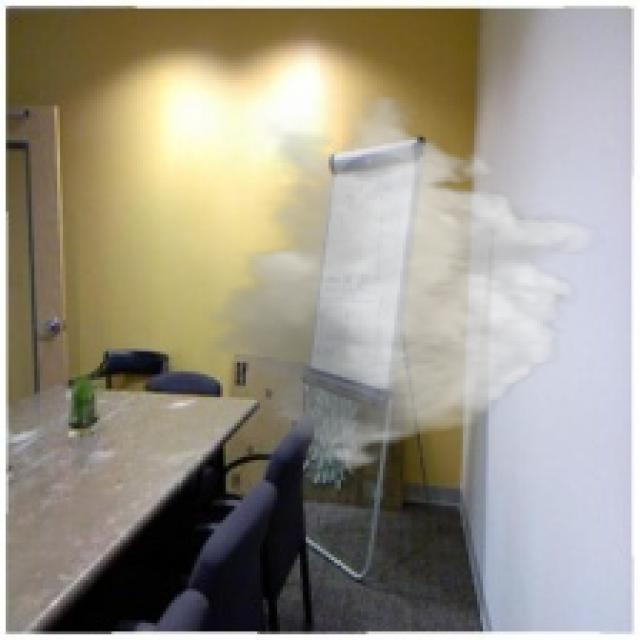smoke: (203, 94, 606, 474)
